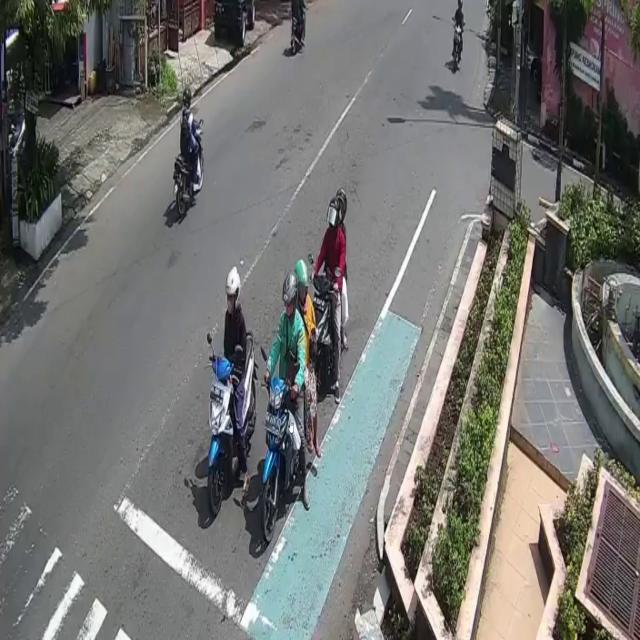motorbike: (205, 326, 259, 516), (260, 349, 308, 546), (309, 270, 342, 402), (172, 119, 206, 219), (289, 4, 307, 56), (451, 14, 466, 75)
